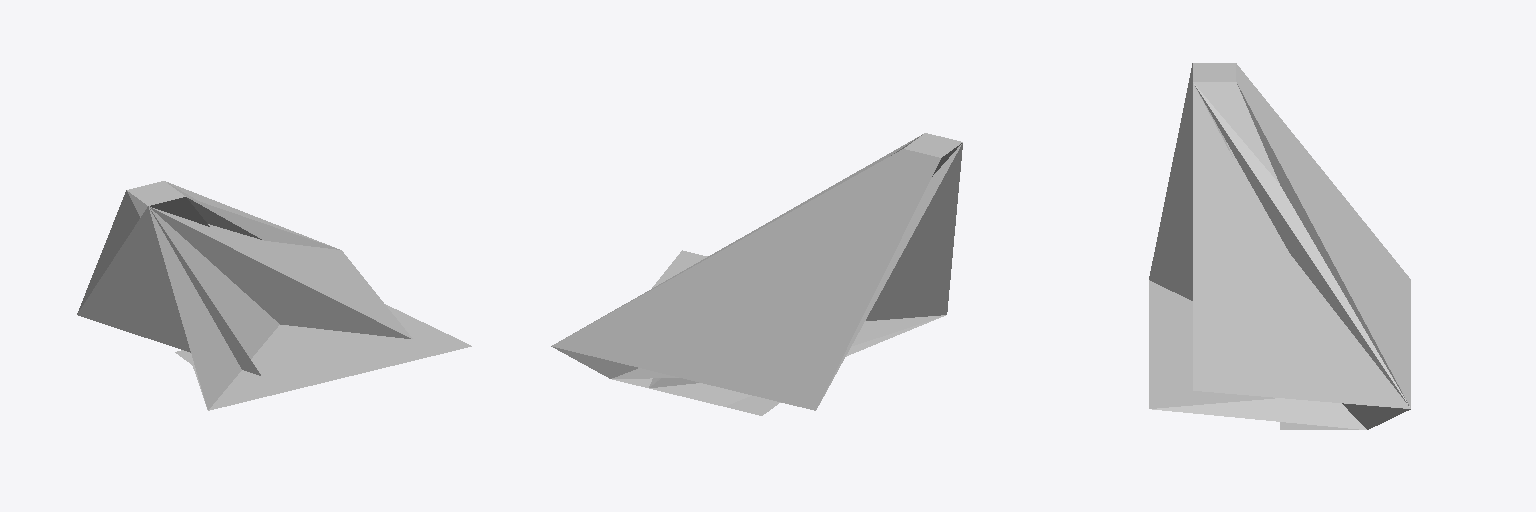
The model's file is Future Toilet.obj.
3 renders of one model, left to right at view 1: azimuth 30°, elevation 25°; view 2: azimuth 150°, elevation 25°; view 3: azimuth 270°, elevation 25°, orthographic.
Size of the model in its own units: 8 by 6 by 6.